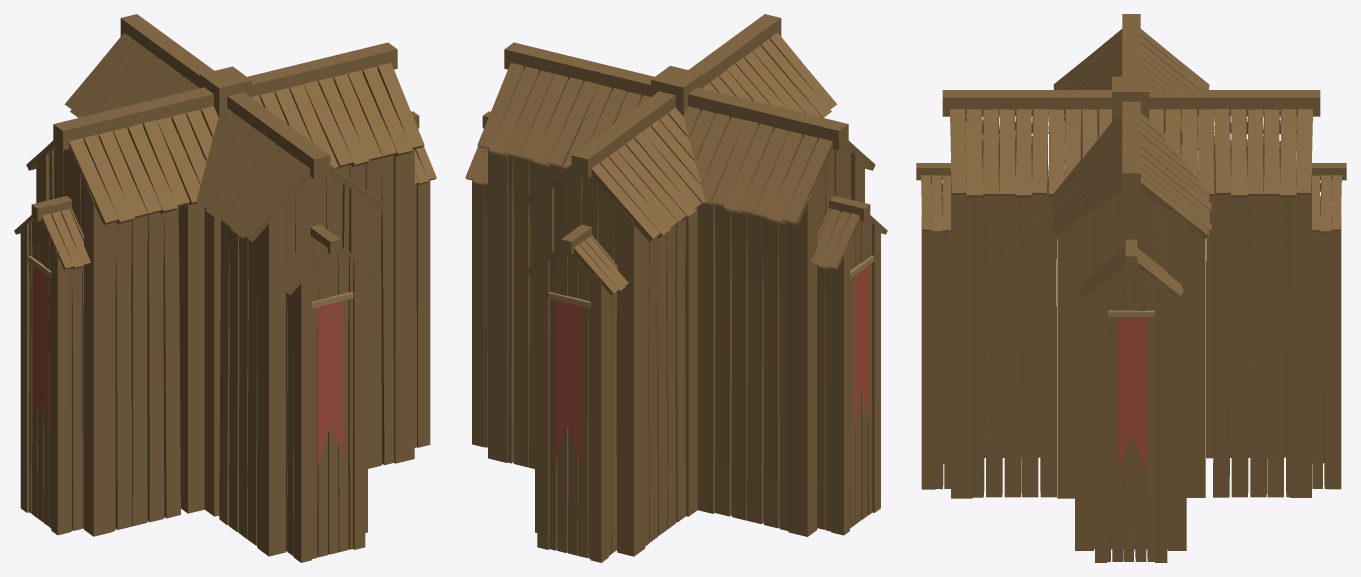
The model's file is quaternius-real-time-strategy-temple-first-age-level-1.glb.
3 views of the same model, side by side, from view 1: azimuth 30°, elevation 25°; view 2: azimuth 150°, elevation 25°; view 3: azimuth 270°, elevation 25° (orthographic). The views are drawn at different scales.
Parts seen in each view (by area): view 1: Temple_FirstAge_Level1; view 2: Temple_FirstAge_Level1; view 3: Temple_FirstAge_Level1.
Boxes of the visible parts, <box> form: Temple_FirstAge_Level1: <box>14,14,436,562</box>; Temple_FirstAge_Level1: <box>465,14,887,562</box>; Temple_FirstAge_Level1: <box>916,14,1346,562</box>.
Size of the model in its own units: 1.81 by 1.81 by 1.81.
